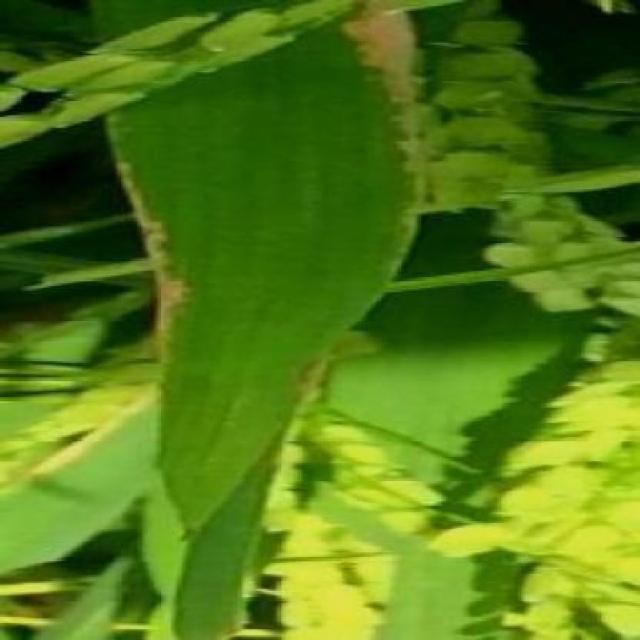Brown_Spot: (115, 97, 290, 461)
